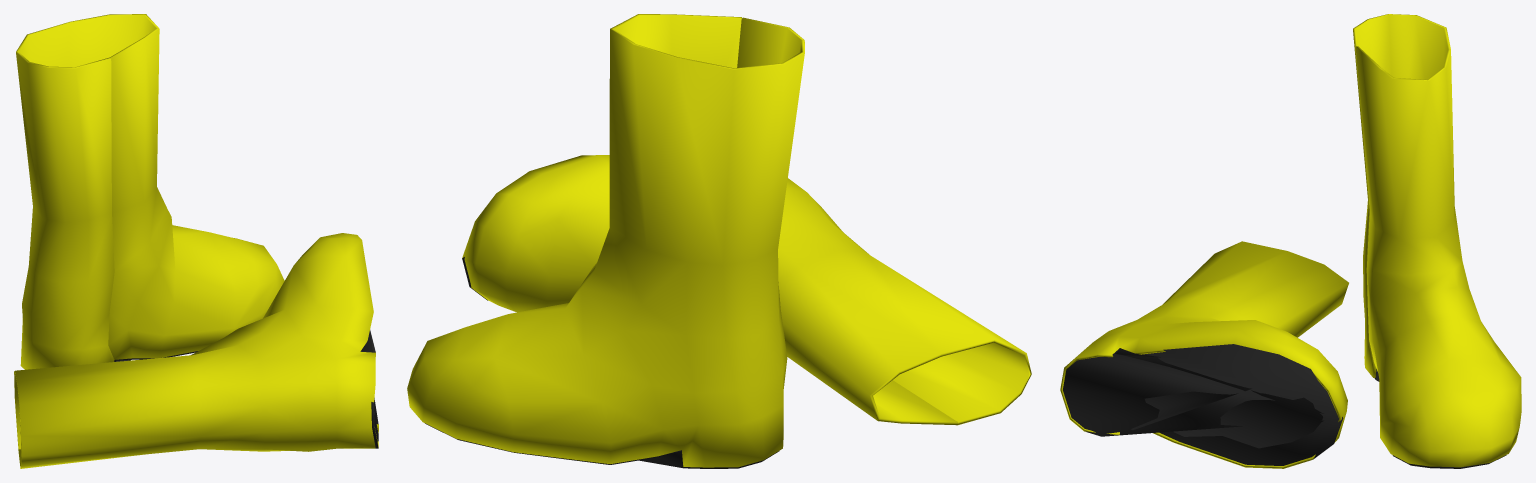
Rendered from construction_boots.fbx.
3 renders of one model, left to right at view 1: azimuth 30°, elevation 25°; view 2: azimuth 150°, elevation 25°; view 3: azimuth 270°, elevation 25°, orthographic. The views are drawn at different scales.
Parts seen in each view (by area): view 1: boots; view 2: boots; view 3: boots.
Part boxes in pixels (bbox=[...]): boots: bbox=[14, 14, 378, 468]; boots: bbox=[407, 14, 1031, 468]; boots: bbox=[1060, 14, 1521, 468].
Bounding box in the file's own units: 2491 × 1973 × 2507.
